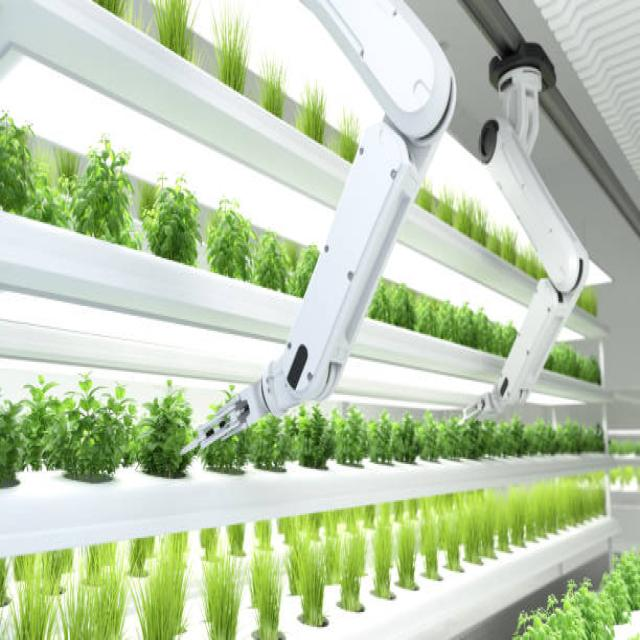Robotic-arm: (264, 0, 459, 415), (471, 40, 592, 428)
